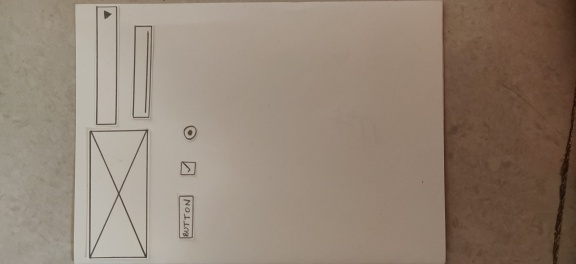button: (174, 191, 199, 242)
checkbox: (176, 159, 199, 180)
dropdown: (90, 3, 122, 127)
img: (83, 127, 153, 264)
radio: (179, 124, 200, 142)
text: (129, 21, 156, 121)
